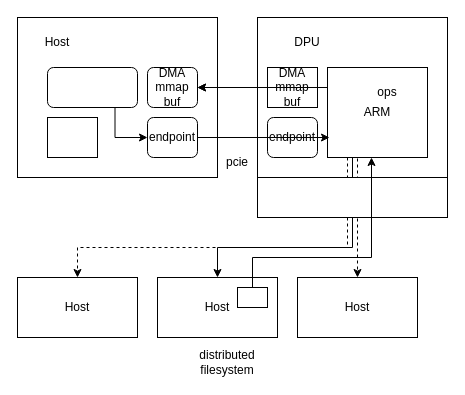
Image size: 465x395. Some labels were removed from this diagram. The box of each missing label's shape, as (x1, y1, x2, y2) in pixels:
CX-6 Mellanox: (256, 176, 448, 218)
DOCA_dist_fs: (46, 66, 138, 108)
NVMe: (236, 286, 268, 308)
x86: (46, 116, 98, 158)
